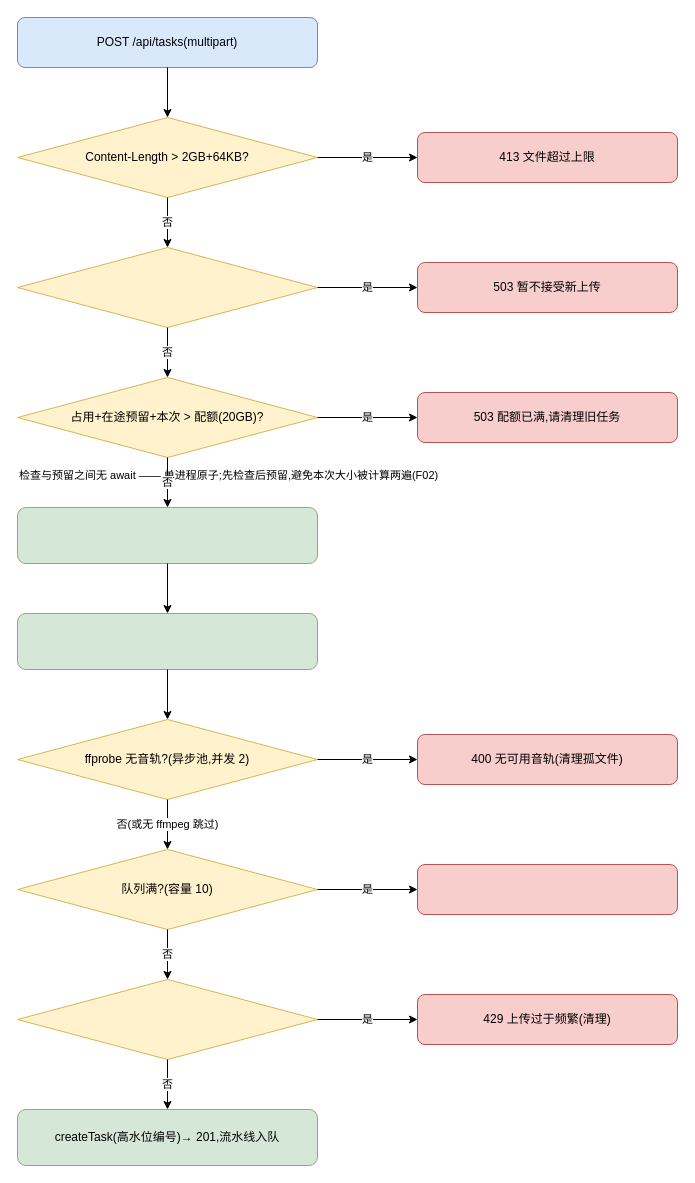
Some shapes in this 695 by 1183 pixel diagram are drawn without their labels. The centre of each missing label's shape, as x and y in pixels:
503 队列已满(清理): [547,889]
multer 落盘 uploads/{uuid}: [167,641]
reserveUploadQuota(cl) 预留(响应结束/中断时释放): [167,535]
磁盘剩余 < 水位(默认 1GB)?: [167,287]
该 IP 上传 > 6 次/分钟?: [167,1019]
